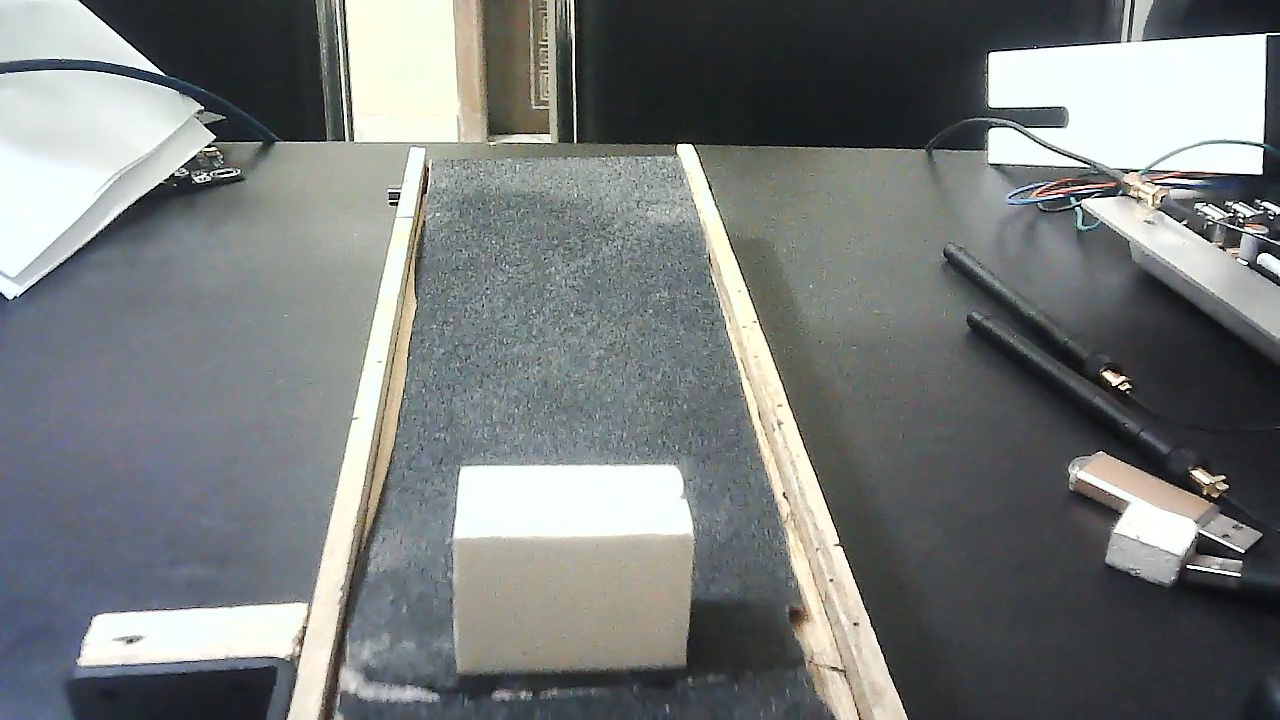BIG: (452, 445, 695, 688)
